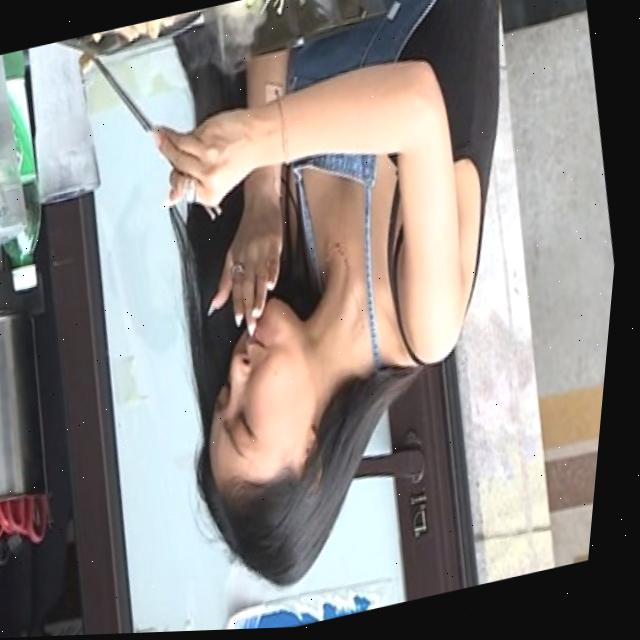eating-person: (35, 0, 617, 633)
